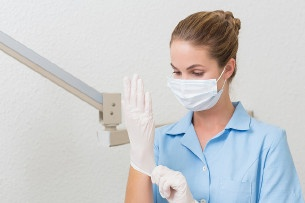Mask: (166, 60, 220, 114)
